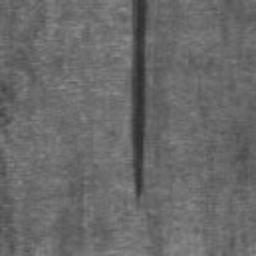Scratches: (131, 0, 147, 201)
